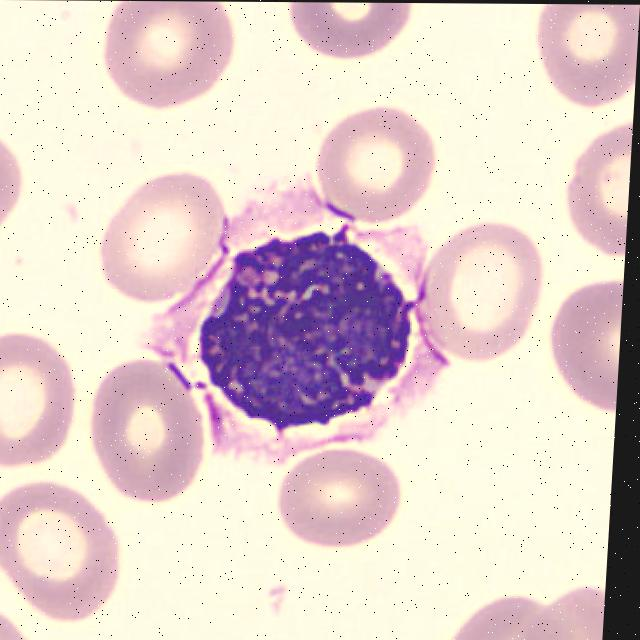basophil: (178, 229, 428, 445)
rbc: (0, 475, 133, 634), (85, 358, 214, 511), (94, 1, 259, 111), (416, 213, 541, 357), (91, 175, 221, 299), (270, 447, 410, 559), (520, 4, 640, 127), (315, 106, 439, 224), (553, 102, 634, 265), (0, 322, 83, 475), (542, 274, 624, 421), (282, 2, 411, 74), (430, 585, 548, 640), (523, 578, 606, 640), (0, 127, 37, 253), (0, 596, 37, 640)
